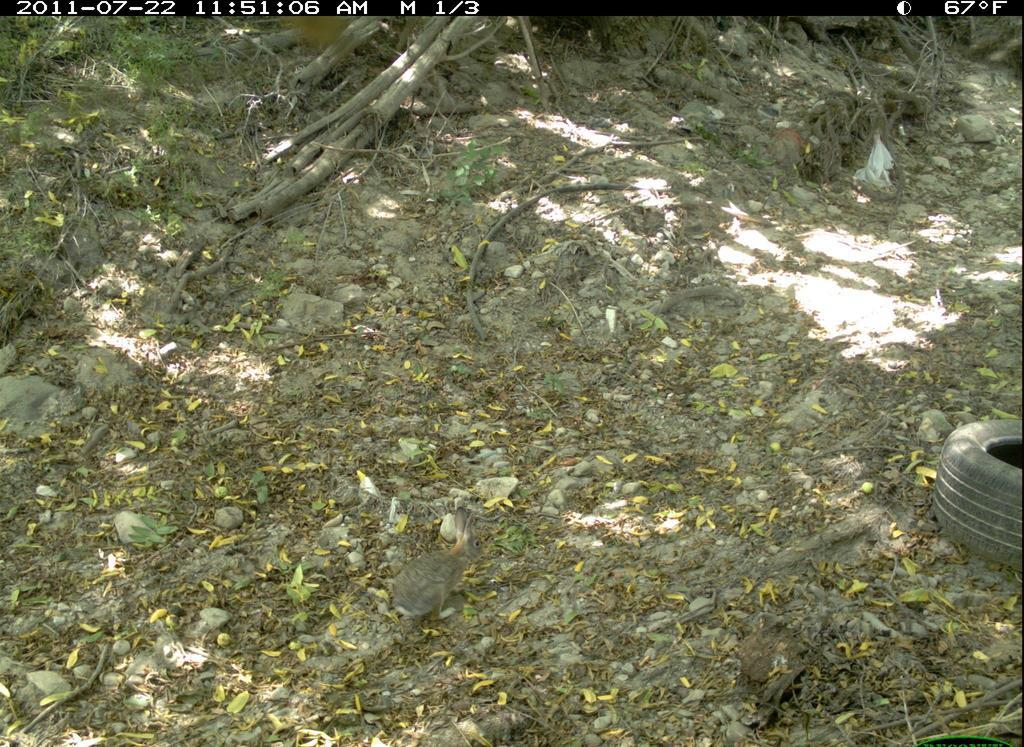rabbit: (388, 506, 504, 632)
